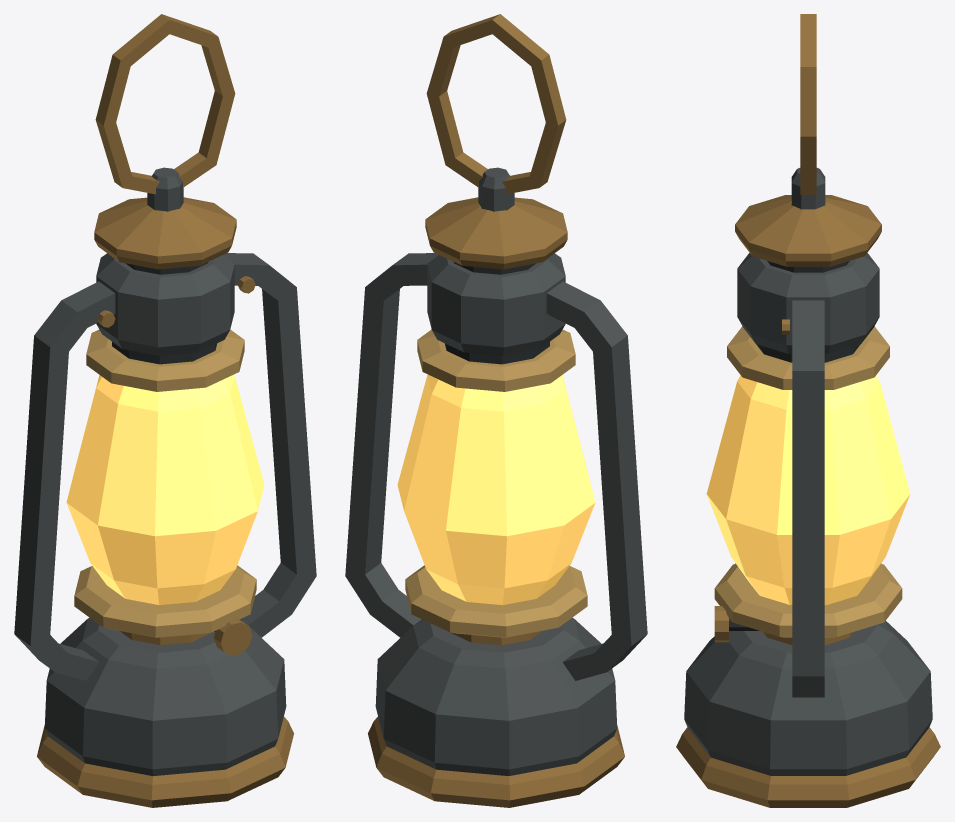
The model's file is Farol_de_mano.glb.
The picture shows the model from 3 angles, left to right: view 1: azimuth 30°, elevation 25°; view 2: azimuth 150°, elevation 25°; view 3: azimuth 270°, elevation 25°; orthographic projection.
Parts seen in each view (by area): view 1: 07_Globo_luminoso, 02_Deposito_aceite, 14_Protector_izquierdo, 15_Protector_derecho, 10_Chimenea_cuerpo, 01_Base_laton, 19_Asa_octogonal, 12_Tapa_laton, 04_Bandeja_inferior, 08_Collar_superior, 13_Soporte_asa, 18_Rueda_mecha (+2 smaller); view 2: 07_Globo_luminoso, 02_Deposito_aceite, 14_Protector_izquierdo, 15_Protector_derecho, 10_Chimenea_cuerpo, 01_Base_laton, 19_Asa_octogonal, 12_Tapa_laton, 04_Bandeja_inferior, 08_Collar_superior, 13_Soporte_asa, 09_Chimenea_cuello (+1 smaller); view 3: 07_Globo_luminoso, 02_Deposito_aceite, 15_Protector_derecho, 10_Chimenea_cuerpo, 01_Base_laton, 12_Tapa_laton, 04_Bandeja_inferior, 08_Collar_superior, 19_Asa_octogonal, 13_Soporte_asa, 09_Chimenea_cuello, 18_Rueda_mecha.
Part boxes in pixels (x1,y1,x2,y2): 07_Globo_luminoso: (66,374,264,605); 02_Deposito_aceite: (44,617,286,775); 14_Protector_izquierdo: (14,281,115,680); 15_Protector_derecho: (223,253,316,637); 10_Chimenea_cuerpo: (96,253,234,355); 01_Base_laton: (37,717,293,807); 19_Asa_octogonal: (95,14,235,194); 12_Tapa_laton: (94,197,236,269); 04_Bandeja_inferior: (74,565,256,637); 08_Collar_superior: (86,329,244,391); 13_Soporte_asa: (147,167,183,211); 18_Rueda_mecha: (214,618,252,655); 07_Globo_luminoso: (397,374,595,605); 02_Deposito_aceite: (375,617,617,775); 14_Protector_izquierdo: (546,281,647,680); 15_Protector_derecho: (345,253,438,637); 10_Chimenea_cuerpo: (427,253,565,355); 01_Base_laton: (368,717,624,807); 19_Asa_octogonal: (426,14,566,194); 12_Tapa_laton: (425,197,567,269); 04_Bandeja_inferior: (405,565,587,637); 08_Collar_superior: (417,329,575,391); 13_Soporte_asa: (478,167,514,211); 09_Chimenea_cuello: (444,342,549,364); 07_Globo_luminoso: (706,375,910,604); 02_Deposito_aceite: (684,621,932,775); 15_Protector_derecho: (792,300,824,697); 10_Chimenea_cuerpo: (737,253,879,353); 01_Base_laton: (676,727,940,807); 12_Tapa_laton: (735,195,881,266); 04_Bandeja_inferior: (714,563,902,637); 08_Collar_superior: (727,326,889,389); 19_Asa_octogonal: (800,14,816,194); 13_Soporte_asa: (791,168,825,209); 09_Chimenea_cuello: (756,344,860,362); 18_Rueda_mecha: (714,606,728,642).
Bounding box in the file's own units: 0.1633 × 0.4029 × 0.13.
